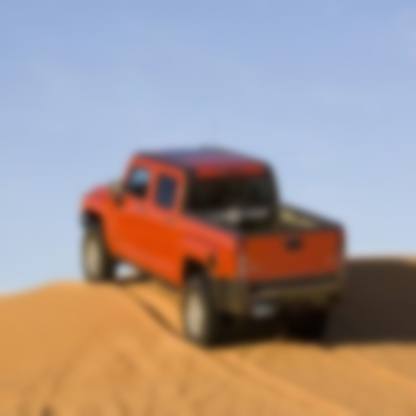Vehicle: (78, 144, 350, 354)
